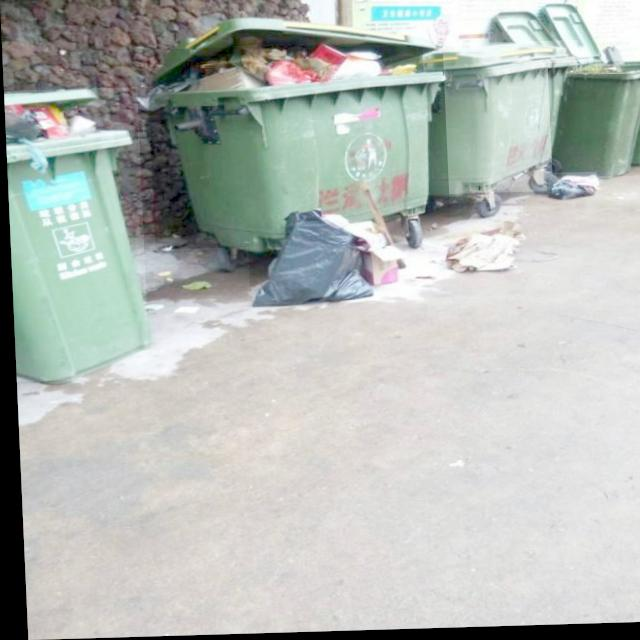garbage: (245, 205, 522, 304), (544, 175, 596, 204)
garbage_bin: (419, 44, 582, 198), (547, 64, 640, 181)
overflow: (146, 44, 449, 251), (3, 88, 146, 382)
